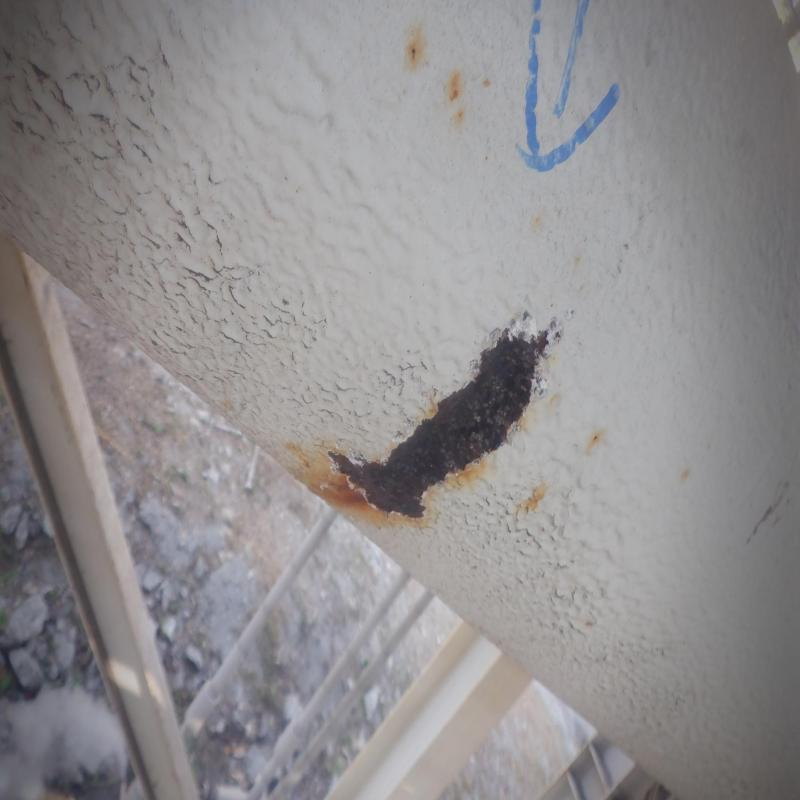corrosion: (405, 409, 512, 466)
